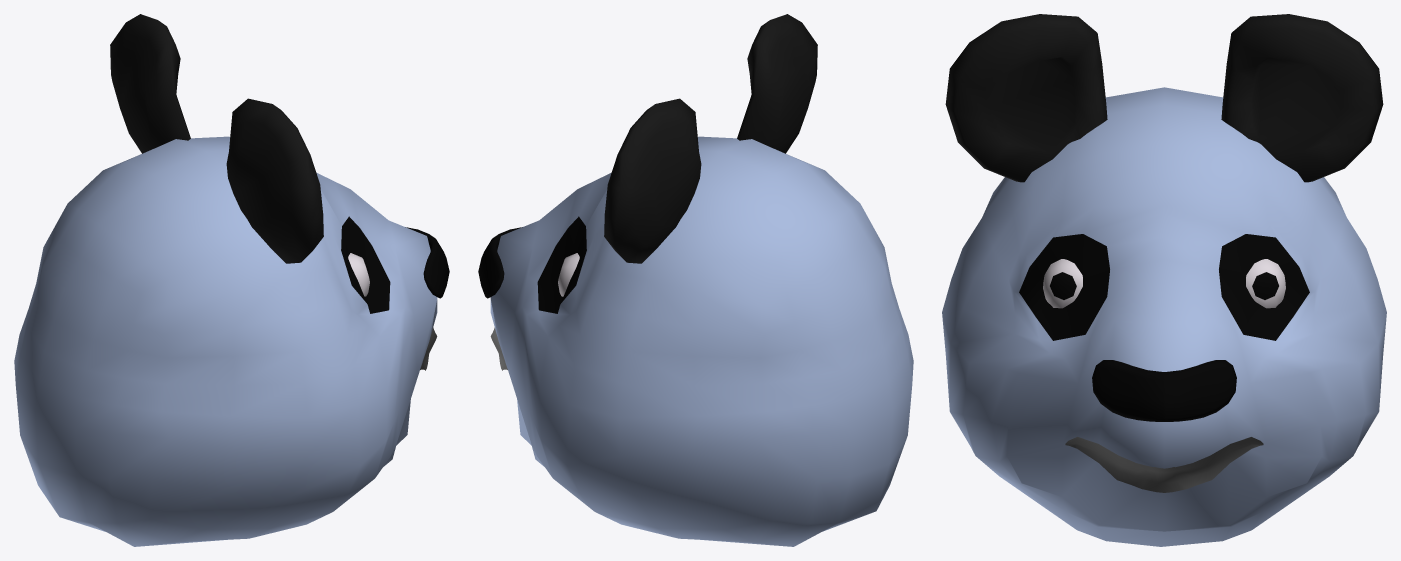
File: Panda.glb
The picture shows the model from 3 angles, left to right: view 1: azimuth 30°, elevation 25°; view 2: azimuth 150°, elevation 25°; view 3: azimuth 270°, elevation 25°; orthographic projection. The views are drawn at different scales.
Parts seen in each view (by area): view 1: Roundcube.007; view 2: Roundcube.007; view 3: Roundcube.007.
Part boxes in pixels (box(x1,y1,x2,y2)): Roundcube.007: box(14, 14, 449, 546); Roundcube.007: box(478, 14, 913, 546); Roundcube.007: box(942, 14, 1386, 546).
Bounding box in the file's own units: 1.62 × 1.73 × 1.39.
